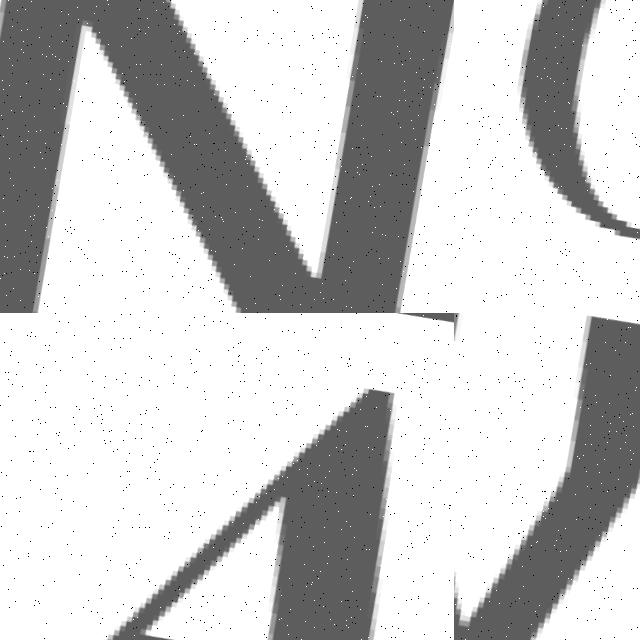9: (454, 0, 640, 313)
A: (0, 313, 454, 640)
N: (0, 0, 454, 313)
W: (454, 313, 640, 640)
